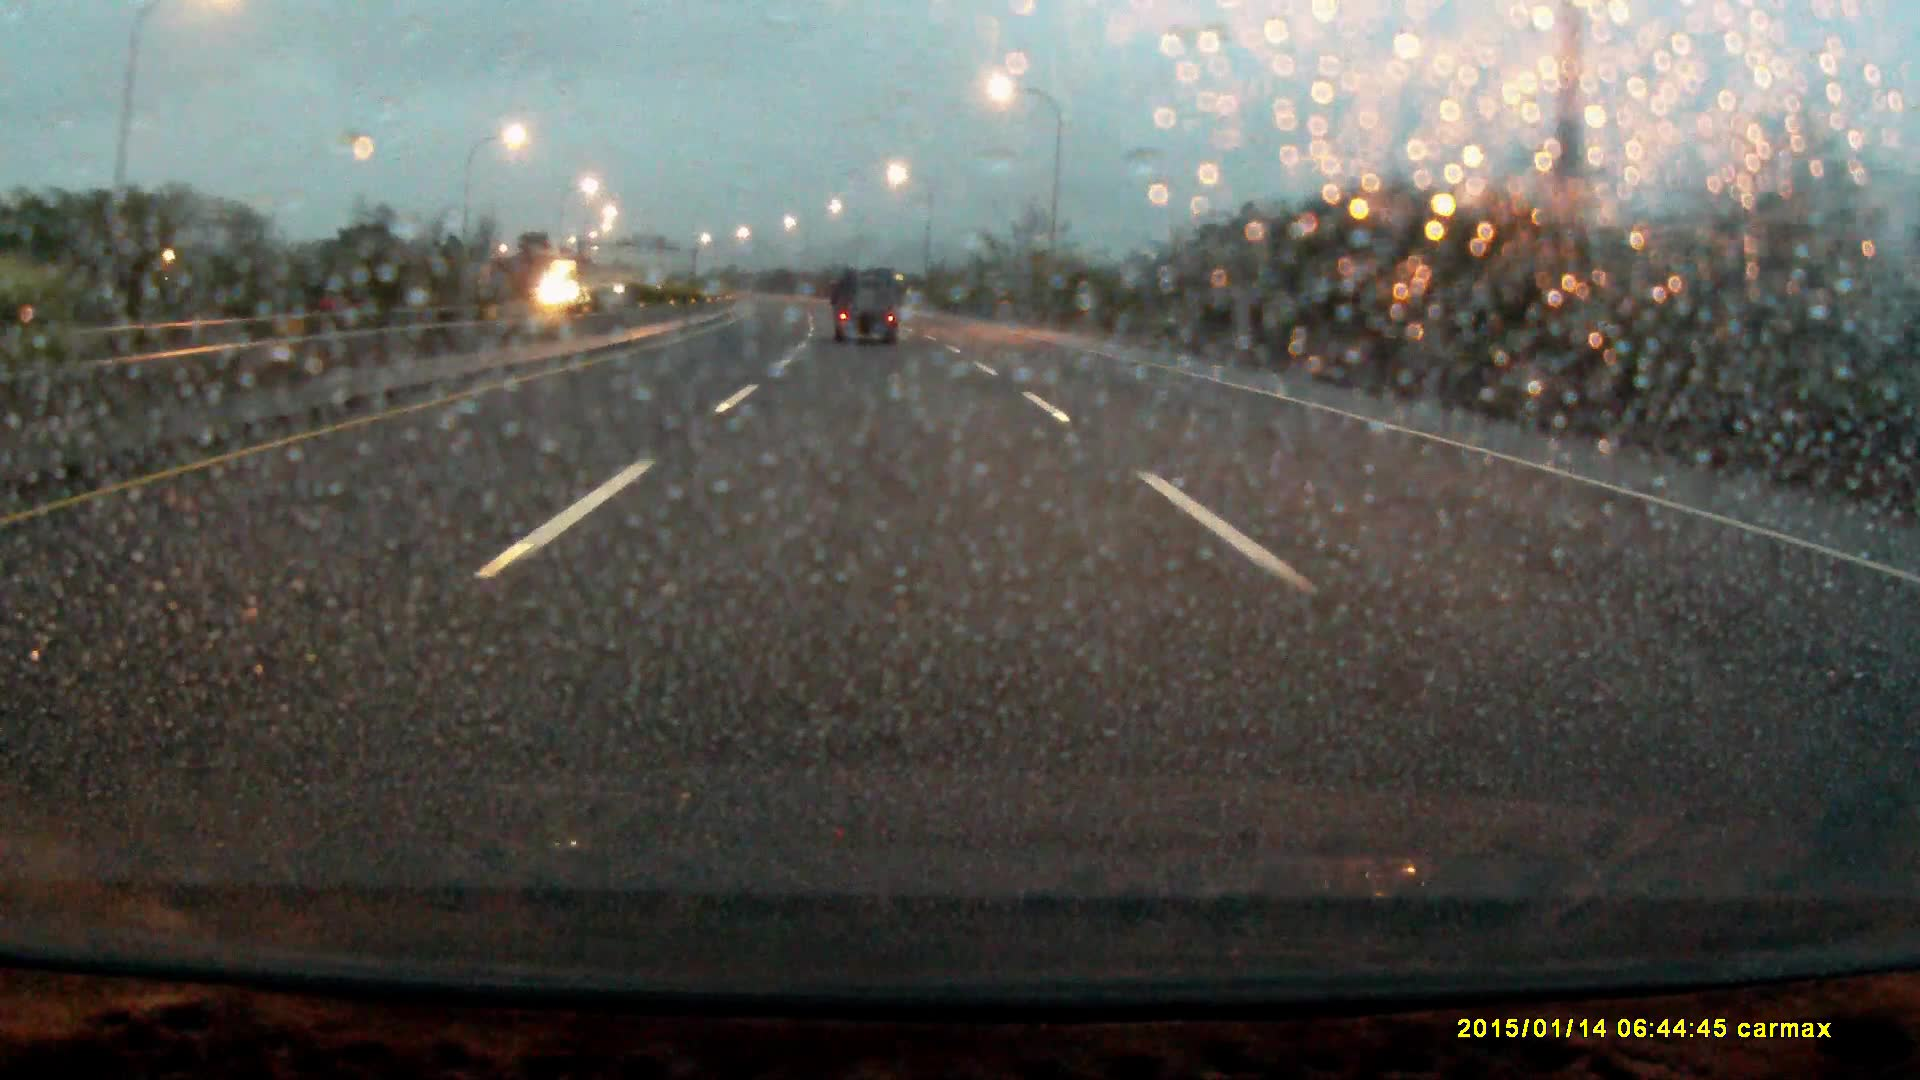vehicle: (833, 273, 903, 352), (545, 262, 618, 323)
